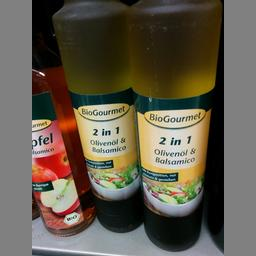vinegar: (130, 0, 220, 249), (53, 0, 144, 231), (32, 4, 96, 236)
